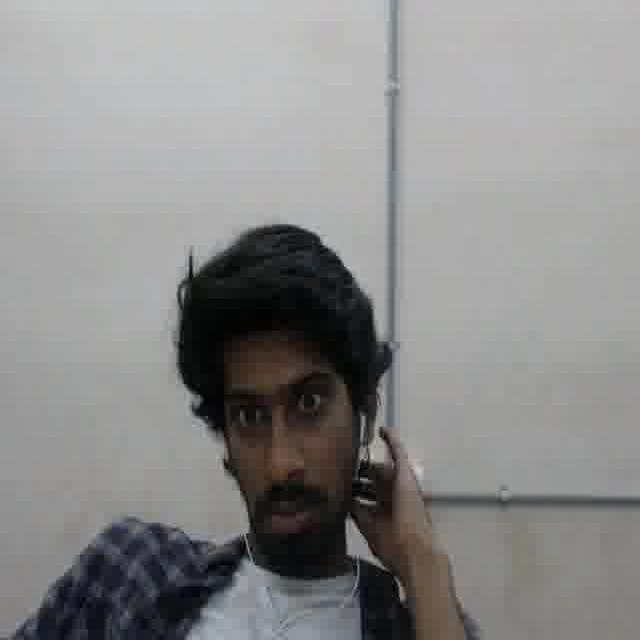Frustration: (216, 330, 351, 554)
